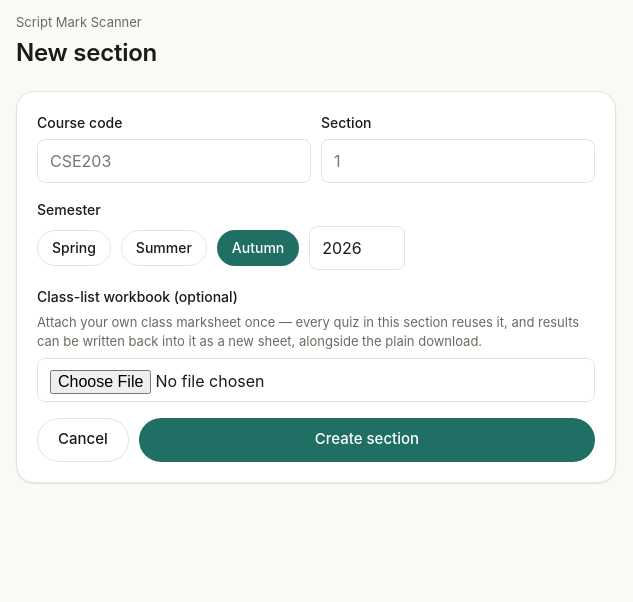
SectionForm — creating a section › refuses to save with a missing field
Click the button "Create section": (367, 440) top-left (139, 418), bottom-right (595, 462)
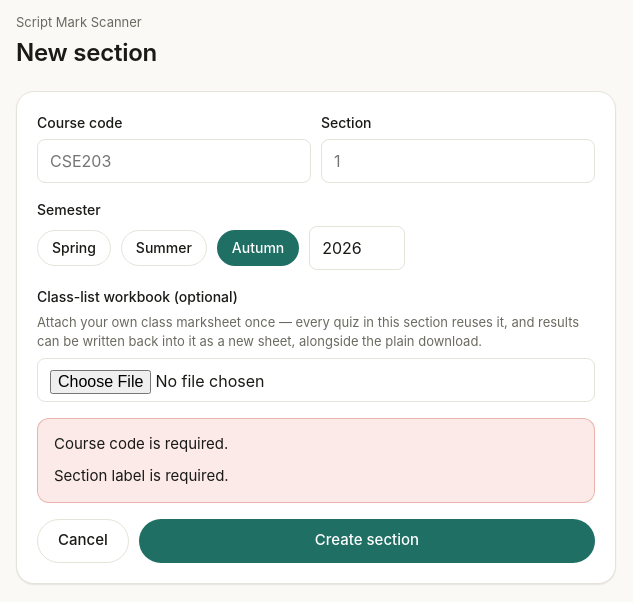
Result: the text "Course code is required." is shown at top-left (54, 434), bottom-right (228, 452)
